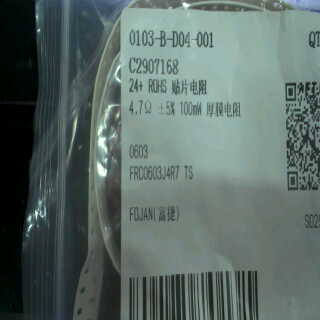4.7R: (127, 96, 154, 118)
